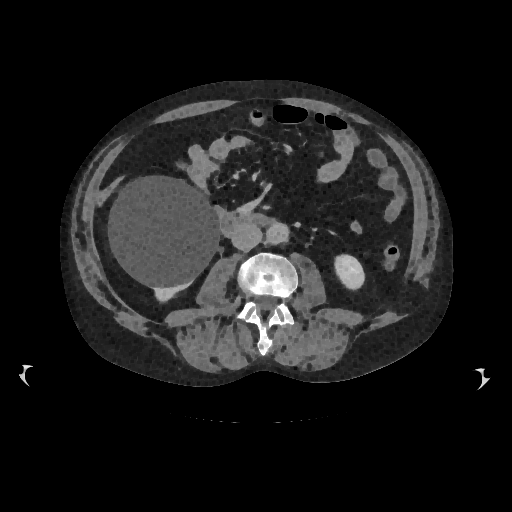Lesion: (105, 176, 219, 289)
